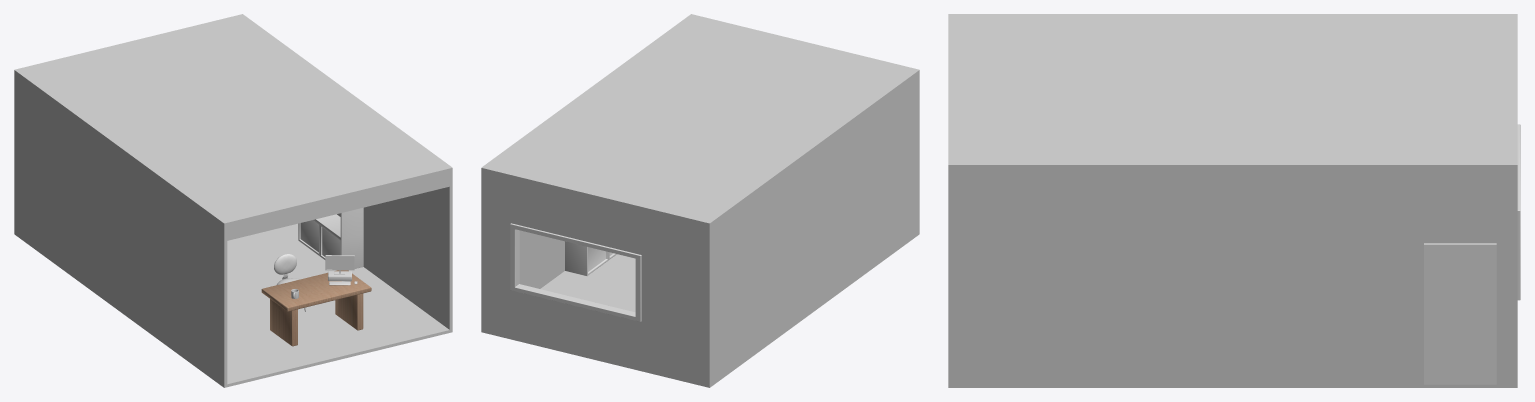
File: OficinaJam.fbx
3 views of the same model, side by side, from view 1: azimuth 30°, elevation 25°; view 2: azimuth 150°, elevation 25°; view 3: azimuth 270°, elevation 25° (orthographic). The views are drawn at different scales.
Parts seen in each view (by area): view 1: Cube, Escritorio 1, Cube.016, Cube.011, Circle.001; view 2: Cube, Cube.015, Cube.016; view 3: Cube, Cube.008, Cube.015.
Boxes of the visible parts, bbox=[...] form: Cube: bbox=[14, 14, 452, 387]; Escritorio 1: bbox=[261, 270, 371, 346]; Cube.016: bbox=[298, 207, 363, 270]; Cube.011: bbox=[325, 255, 354, 270]; Circle.001: bbox=[274, 254, 296, 274]; Cube: bbox=[481, 14, 919, 387]; Cube.015: bbox=[510, 223, 641, 321]; Cube.016: bbox=[565, 241, 616, 275]; Cube: bbox=[948, 14, 1517, 387]; Cube.008: bbox=[1424, 243, 1496, 384]; Cube.015: bbox=[1517, 124, 1520, 300].
Size of the model in its own units: 998 by 680 by 1583.
2 materials, 1 textured.
